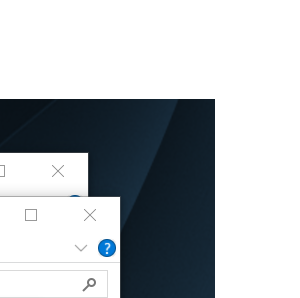close: (74, 202, 107, 230), (44, 158, 74, 183)
